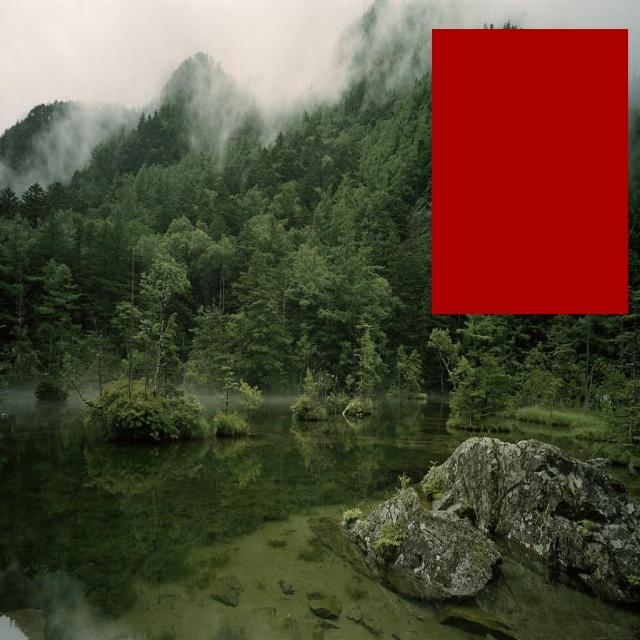RedSquare: (423, 19, 635, 322)
